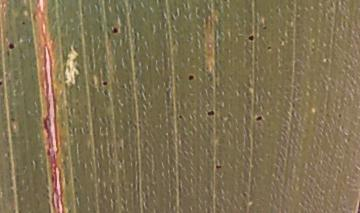tarspot: (187, 73, 195, 82), (100, 80, 110, 87), (206, 109, 215, 116), (356, 198, 360, 213), (255, 114, 262, 122), (247, 34, 255, 41), (111, 26, 118, 34), (7, 41, 14, 49), (177, 113, 183, 121), (266, 45, 273, 51), (337, 112, 343, 118), (215, 163, 221, 169), (20, 20, 26, 26), (261, 25, 267, 30), (1, 80, 3, 88)
